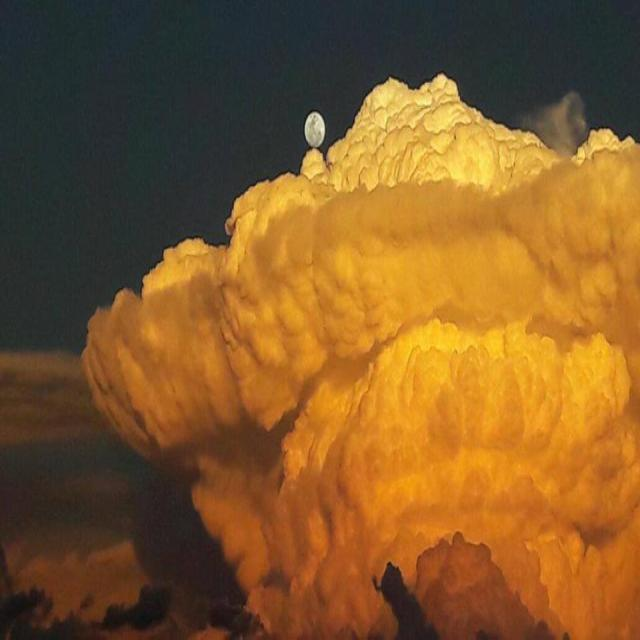cumulonimbus: (38, 46, 640, 635)
